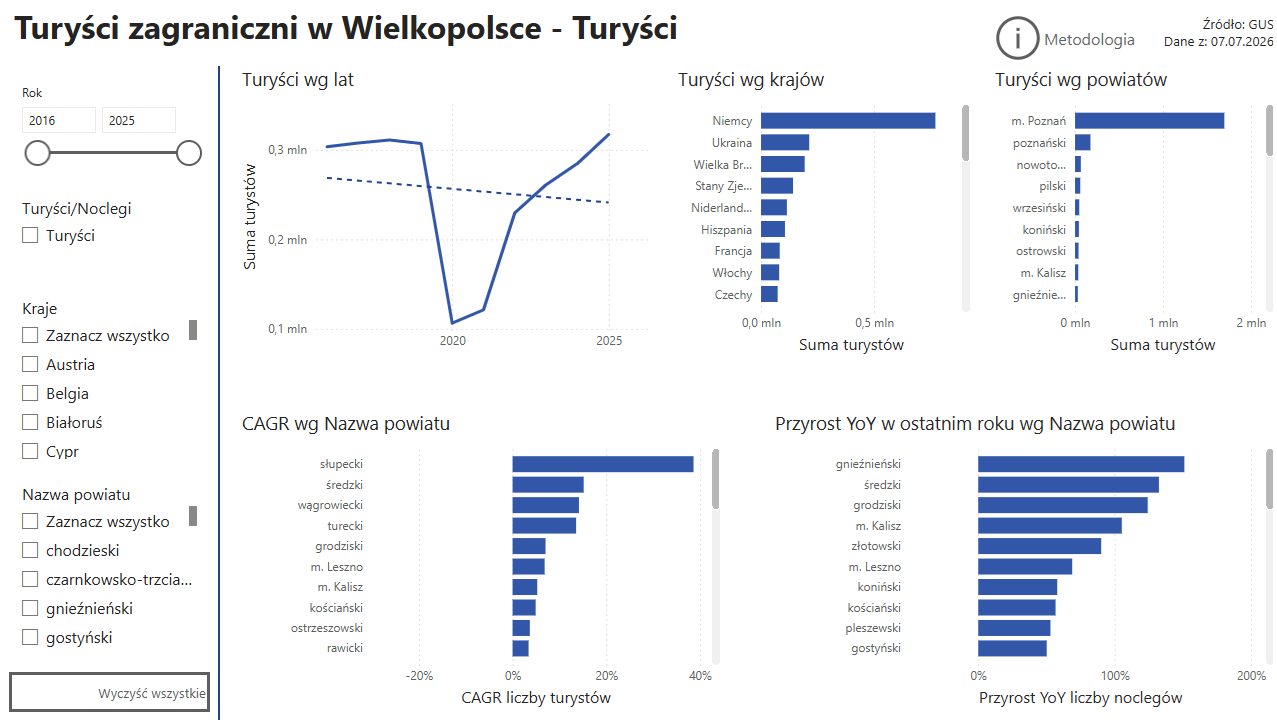

The dashboard page shown, as its layout file describes it:
{"tool":"powerbi","page":{"name":"Turyści","canvas":[1280,720],"ordinal":3},"visuals":[{"type":"lineChart","title":"Turyści wg lat","fields":{"Category":["DANE_Wielkopolska.Rok"],"Y":["Sum(DANE_Wielkopolska.Wartosc)"]},"box":[237.8,66.7,421.1,293.3],"z":0},{"type":"clusteredBarChart","title":"Turyści wg krajów","fields":{"Category":["DANE_Wielkopolska.Kraje"],"Y":["Sum(DANE_Wielkopolska.Wartosc)"]},"box":[674.4,66.7,301.1,293.3],"z":1000},{"type":"slicer","fields":{"Values":["DANE_Wielkopolska.Rok"]},"box":[9.7,79.8,201.3,99.2],"z":2000},{"type":"shape","box":[211.1,67.1,17.5,652.6],"z":3000},{"type":"slicer","fields":{"Values":["DANE_Wielkopolska.Kraje"]},"box":[9.7,292.8,193.6,172.2],"z":4000},{"type":"clusteredBarChart","title":"Turyści wg powiatów","fields":{"Category":["DANE_Wielkopolska.Nazwa powiatu"],"Y":["Sum(DANE_Wielkopolska.Wartosc)"]},"box":[991.1,66.7,288.9,293.3],"z":5000},{"type":"slicer","fields":{"Values":["DANE_Wielkopolska.Nazwa powiatu"]},"box":[9.7,479,193.6,179.9],"z":6000},{"type":"textbox","box":[9.7,0,792.7,59.3],"z":7000},{"type":"slicer","fields":{"Values":["DANE_Wielkopolska.Turyści/Noclegi - etykieta"]},"box":[9.7,193.1,193.6,85.6],"z":8000},{"type":"actionButton","box":[9.7,673.1,201.3,39.9],"z":9000},{"type":"textbox","box":[1122.1,10.7,157.6,56.4],"z":10000},{"type":"clusteredBarChart","fields":{"Category":["DANE_Wielkopolska.Nazwa powiatu"],"Y":["DANE_Wielkopolska.CAGR"]},"box":[237.8,411.1,487.8,302.2],"z":11000},{"type":"clusteredBarChart","title":"Przyrost YoY w ostatnim roku wg Nazwa powiatu","fields":{"Category":["DANE_Wielkopolska.Nazwa powiatu"],"Y":["DANE_Wielkopolska.Przyrost_YoY"]},"box":[771.1,411.1,508.9,302.2],"z":12000},{"type":"actionButton","box":[991.1,10.7,148.8,56.4],"z":13000}]}

Visuals, with their boxes in screenshot pixels (x1, y1, x2, y2), scaled from the page's 1280x720 canvas onto the 1277x720 screenshot:
"Turyści wg lat" lineChart: x1=237 y1=67 x2=657 y2=360
"Turyści wg krajów" clusteredBarChart: x1=673 y1=67 x2=973 y2=360
slicer - DANE_Wielkopolska.Rok: x1=10 y1=80 x2=211 y2=179
shape: x1=211 y1=67 x2=228 y2=719
slicer - DANE_Wielkopolska.Kraje: x1=10 y1=293 x2=203 y2=465
"Turyści wg powiatów" clusteredBarChart: x1=989 y1=67 x2=1276 y2=360
slicer - DANE_Wielkopolska.Nazwa powiatu: x1=10 y1=479 x2=203 y2=659
textbox: x1=10 y1=0 x2=801 y2=59
slicer - DANE_Wielkopolska.Turyści/Noclegi - etykieta: x1=10 y1=193 x2=203 y2=279
actionButton: x1=10 y1=673 x2=211 y2=713
textbox: x1=1119 y1=11 x2=1276 y2=67
clusteredBarChart - DANE_Wielkopolska.Nazwa powiatu x DANE_Wielkopolska.CAGR: x1=237 y1=411 x2=724 y2=713
"Przyrost YoY w ostatnim roku wg Nazwa powiatu" clusteredBarChart: x1=769 y1=411 x2=1276 y2=713
actionButton: x1=989 y1=11 x2=1137 y2=67
